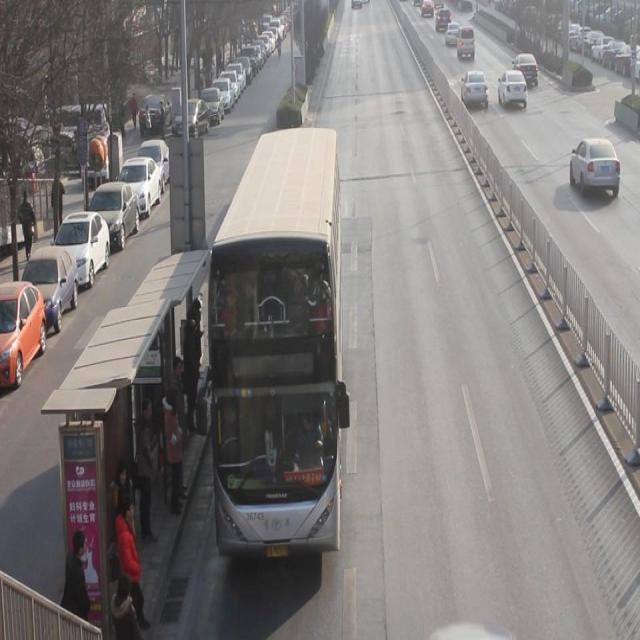car: (570, 140, 622, 204), (497, 72, 528, 114), (460, 73, 490, 115), (511, 55, 539, 90), (445, 24, 461, 49), (436, 10, 452, 34)
truck: (455, 29, 476, 65)
van: (205, 131, 338, 552)
